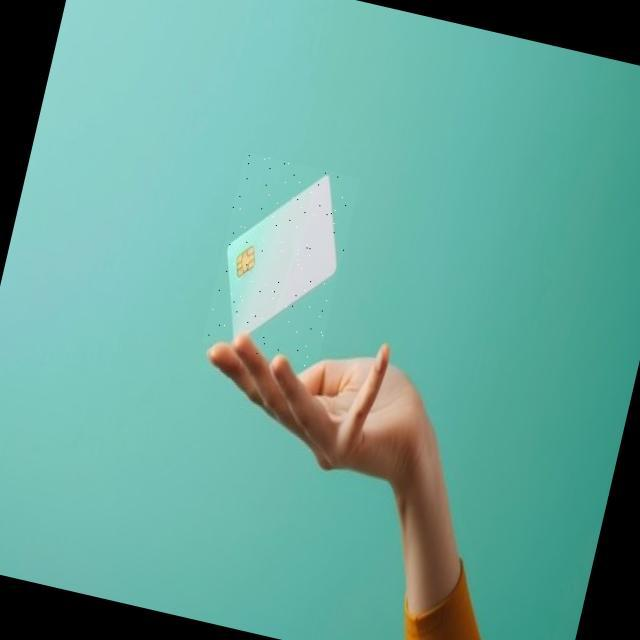payment_card: (225, 172, 337, 344)
